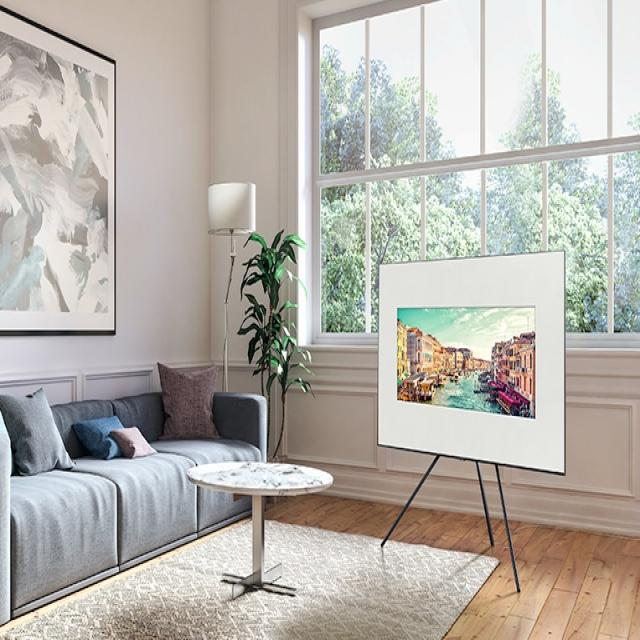electronics: (378, 252, 565, 472)
